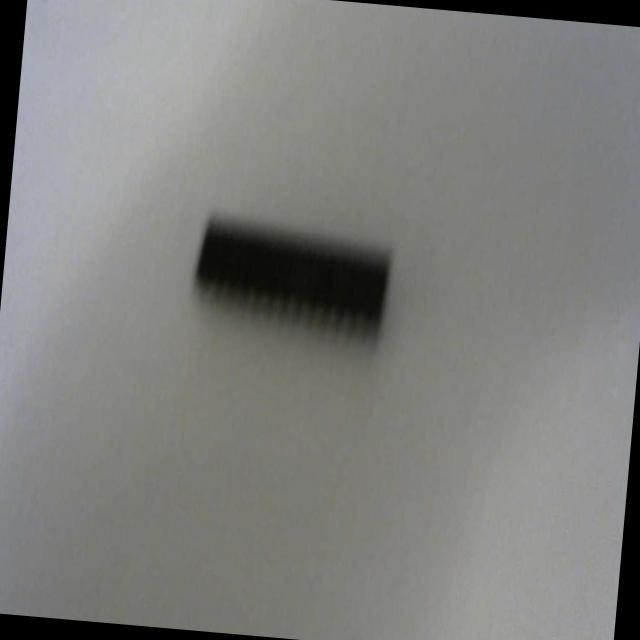atmega: (185, 204, 398, 359)
